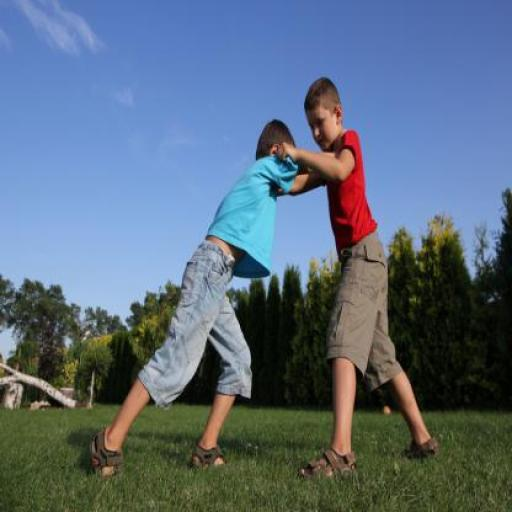Fighting: (91, 75, 440, 475)
